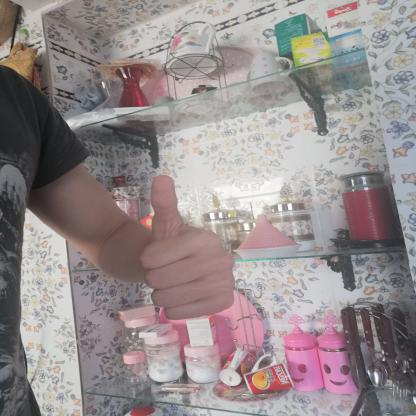ALIF: (106, 160, 255, 332)
